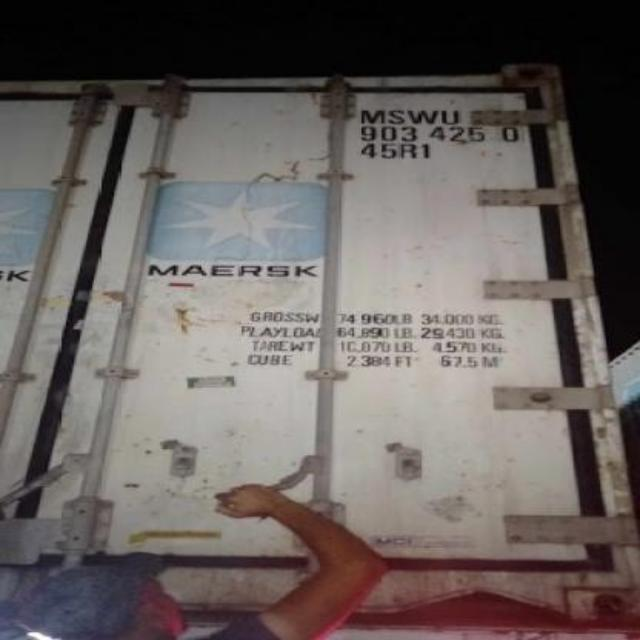0: (380, 126, 398, 142), (502, 127, 520, 143)
2: (446, 126, 468, 144)
3: (400, 126, 418, 142)
4: (428, 126, 448, 142)
5: (468, 127, 486, 143)
9: (360, 125, 378, 143)
M: (360, 109, 386, 125)
S: (386, 109, 406, 123)
U: (440, 110, 460, 124)
W: (406, 109, 439, 125)
